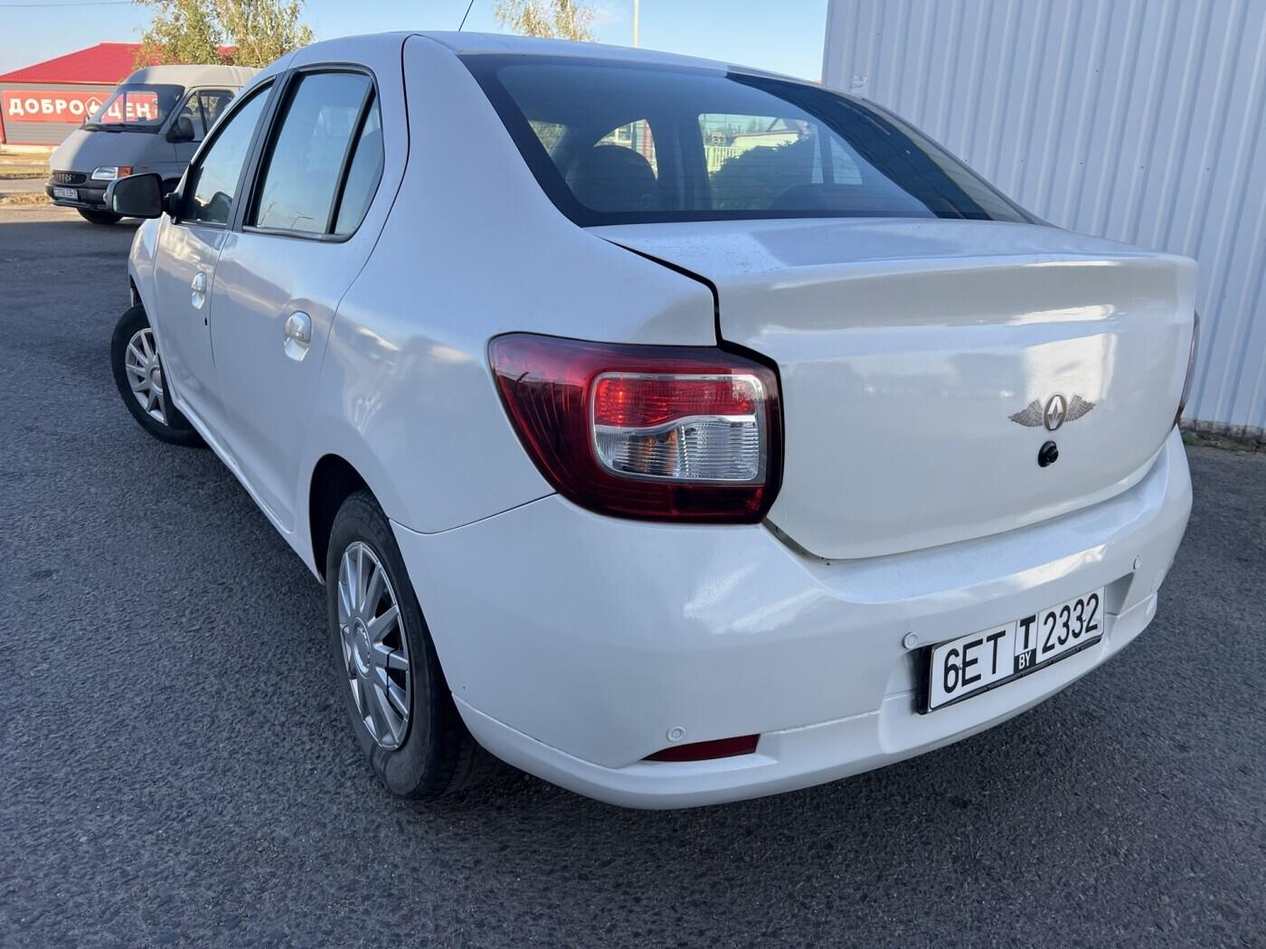Logan_2013-2018: (112, 26, 1198, 807)
